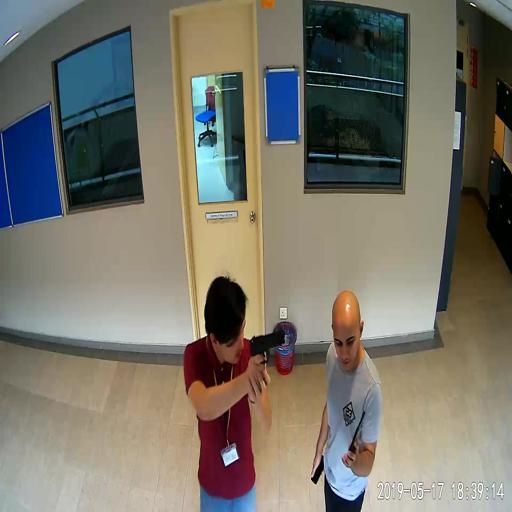pistol: (250, 331, 285, 379)
